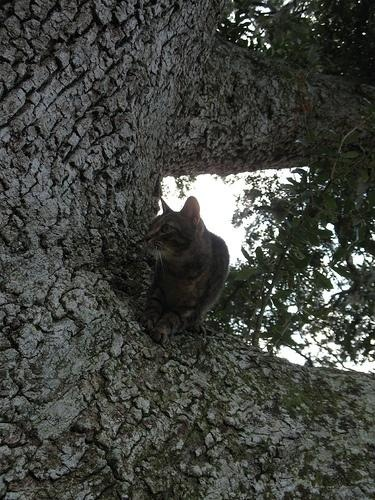cat: (138, 196, 230, 344)
